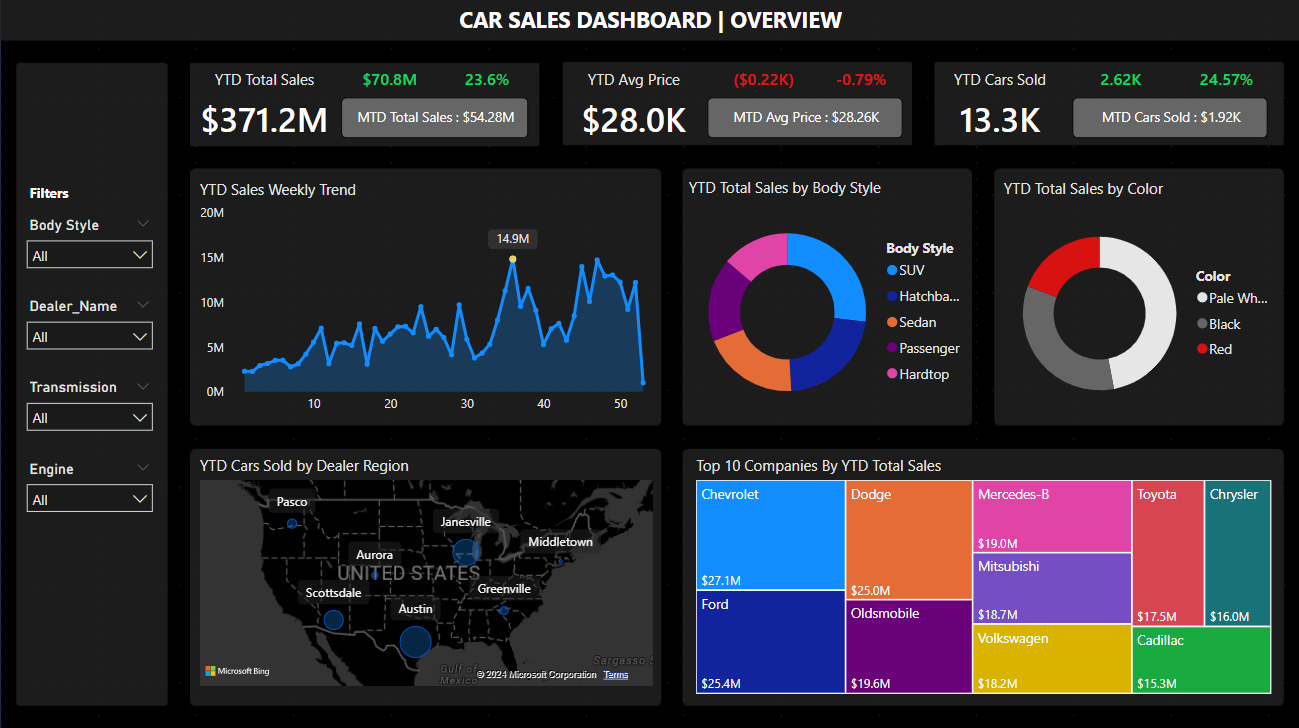

This screenshot's page, from the dashboard's own definition file:
{"tool":"powerbi","page":{"name":"Overview","canvas":[1280,720],"ordinal":0},"visuals":[{"type":"card","title":"YTD Total Sales","fields":{"Values":["measures_table.YTD Total Sales"]},"box":[184.6,67.7,151.4,80],"z":0},{"type":"card","fields":{"Values":["measures_table.YTY Sales Diff"]},"box":[336,64,96,32],"z":1000},{"type":"card","fields":{"Values":["measures_table.YOY Sales Growth"]},"box":[432,64,96,32],"z":2000},{"type":"card","fields":{"Values":["measures_table.MTD Total Sales"]},"box":[336,96,184,40],"z":3000},{"type":"card","title":"YTD Avg Price","fields":{"Values":["measures_table.YTD AVG Price"]},"box":[560,67.7,128,80],"z":4000},{"type":"card","fields":{"Values":["measures_table.AVG Price Diff"]},"box":[704,64,96,32],"z":5000},{"type":"card","fields":{"Values":["measures_table.YOY Avg Price Growth"]},"box":[800,64,96,32],"z":6000},{"type":"card","fields":{"Values":["measures_table.MTD AVG Price"]},"box":[696,96,192,40],"z":7000},{"type":"card","title":"YTD Cars Sold","fields":{"Values":["measures_table.YTD Car Sales"]},"box":[920.6,67.7,128,80],"z":8000},{"type":"card","fields":{"Values":["measures_table.Cars Sold Diff"]},"box":[1056,64,96,32],"z":9000},{"type":"card","fields":{"Values":["measures_table.YOY Cras Sold Growth"]},"box":[1152,64,112,32],"z":10000},{"type":"card","fields":{"Values":["measures_table.MTD Cars Sold"]},"box":[1056,96,192,40],"z":11000},{"type":"areaChart","title":"YTD Sales Weekly Trend","fields":{"Category":["calendar_table.Week"],"Y":["measures_table.Total Sales","measures_table.Max Point"]},"box":[192,176,464,240],"z":12000},{"type":"donutChart","fields":{"Category":["car_data.Body Style"],"Y":["measures_table.YTD Total Sales"]},"box":[673.6,173.6,288.2,248.2],"z":13000},{"type":"donutChart","fields":{"Y":["measures_table.YTD Total Sales"],"Category":["car_data.Color"]},"box":[983.6,174.5,280,248.2],"z":14000},{"type":"map","title":"YTD Cars Sold by Dealer Region","fields":{"Category":["car_data.Dealer_Region"],"Size":["measures_table.YTD Car Sales"]},"box":[192,448,456,232],"z":15000},{"type":"treemap","title":"Top 10 Companies By YTD Total Sales","fields":{"Group":["car_data.Company"],"Values":["measures_table.YTD Total Sales"]},"box":[680,448,576,240],"z":16000},{"type":"textbox","box":[440,0,400,48],"z":17000},{"type":"slicer","fields":{"Values":["car_data.Body Style"]},"box":[16,208,144,80],"z":18000},{"type":"slicer","fields":{"Values":["car_data.Dealer_Name"]},"box":[16,288,144,80],"z":19000},{"type":"slicer","fields":{"Values":["car_data.Transmission"]},"box":[16,368,144,80],"z":20000},{"type":"slicer","fields":{"Values":["car_data.Engine"]},"box":[16,448,144,80],"z":21000},{"type":"textbox","box":[16,176,64,32],"z":22000}]}

Visuals, with their boxes in screenshot pixels (x1, y1, x2, y2), scaled from the page's 1280x720 canvas onto the 1299x728 screenshot:
"YTD Total Sales" card: (187,68,341,149)
card - measures_table.YTY Sales Diff: (341,65,438,97)
card - measures_table.YOY Sales Growth: (438,65,536,97)
card - measures_table.MTD Total Sales: (341,97,528,138)
"YTD Avg Price" card: (568,68,698,149)
card - measures_table.AVG Price Diff: (714,65,812,97)
card - measures_table.YOY Avg Price Growth: (812,65,909,97)
card - measures_table.MTD AVG Price: (706,97,901,138)
"YTD Cars Sold" card: (934,68,1064,149)
card - measures_table.Cars Sold Diff: (1072,65,1169,97)
card - measures_table.YOY Cras Sold Growth: (1169,65,1283,97)
card - measures_table.MTD Cars Sold: (1072,97,1267,138)
"YTD Sales Weekly Trend" areaChart: (195,178,666,421)
donutChart - car_data.Body Style x measures_table.YTD Total Sales: (684,176,976,426)
donutChart - measures_table.YTD Total Sales x car_data.Color: (998,176,1282,427)
"YTD Cars Sold by Dealer Region" map: (195,453,658,688)
"Top 10 Companies By YTD Total Sales" treemap: (690,453,1275,696)
textbox: (447,0,852,49)
slicer - car_data.Body Style: (16,210,162,291)
slicer - car_data.Dealer_Name: (16,291,162,372)
slicer - car_data.Transmission: (16,372,162,453)
slicer - car_data.Engine: (16,453,162,534)
textbox: (16,178,81,210)
